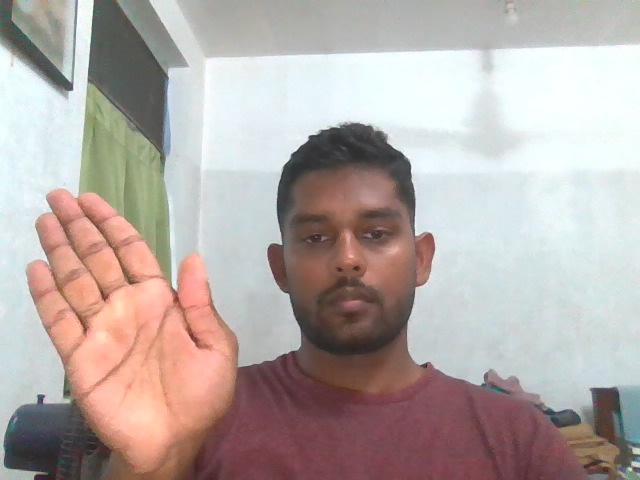bye: (11, 183, 252, 473)
